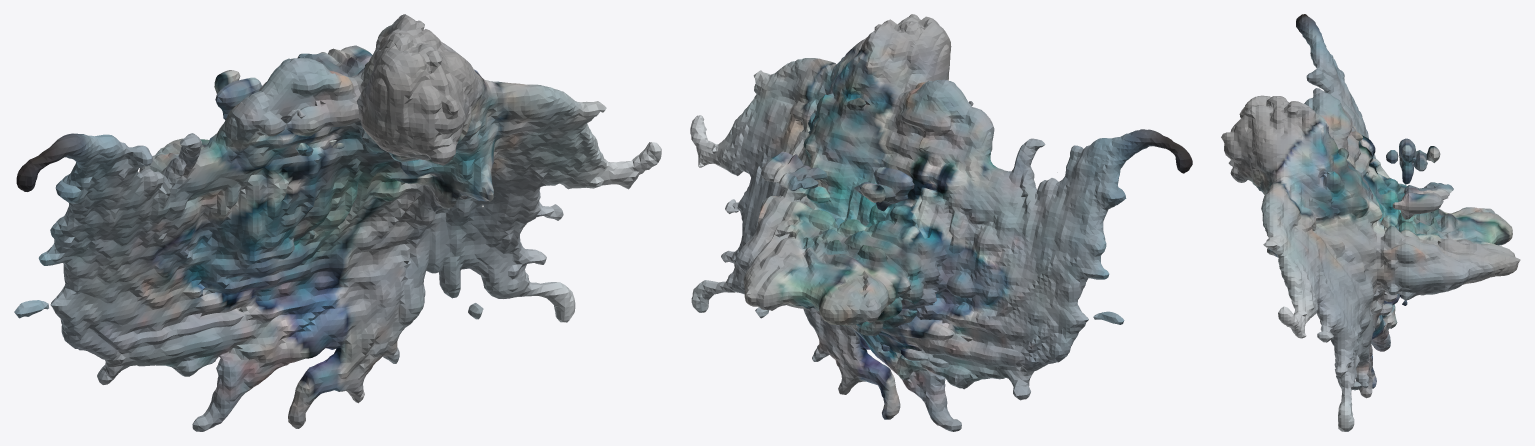
Rendered from echo-evolved.glb.
3 views of the same model, side by side, from view 1: azimuth 30°, elevation 25°; view 2: azimuth 150°, elevation 25°; view 3: azimuth 270°, elevation 25° (orthographic). The views are drawn at different scales.
Parts seen in each view (by area): view 1: world; view 2: world; view 3: world.
Boxes of the visible parts, x1,y1,x2,y2 form: world: [14, 14, 661, 431]; world: [690, 14, 1192, 431]; world: [1221, 14, 1520, 431].
Size of the model in its own units: 0.9751 by 0.6457 by 0.5727.
